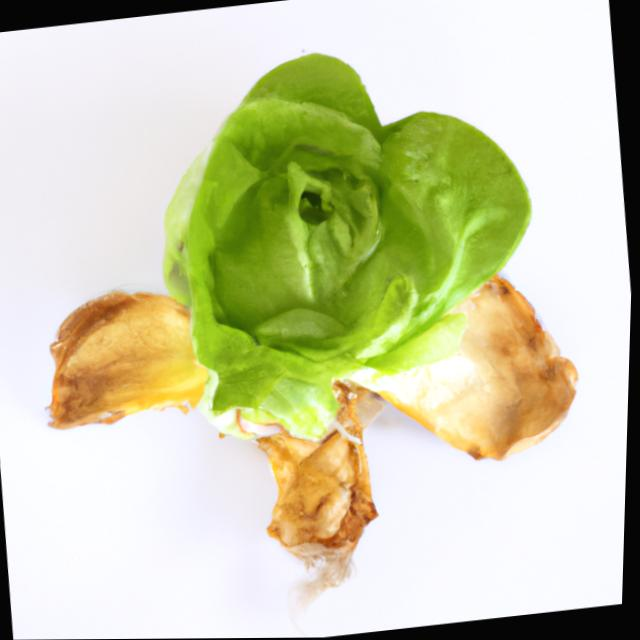-K: (0, 10, 619, 629)
